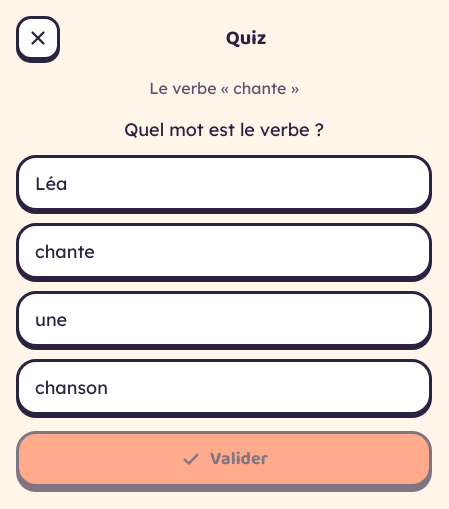
Test: GameScreen, as drawn in the mockups › no star won, no star badge
Click the button "chante" at [65, 251], box 16,223 -> 432,279
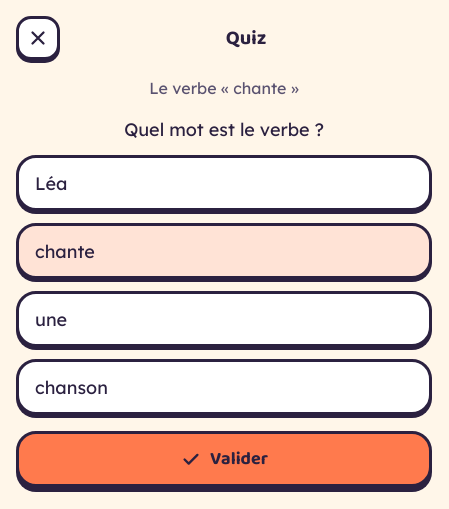
Click the button "Valider" at [224, 459], box 16,431 -> 432,487
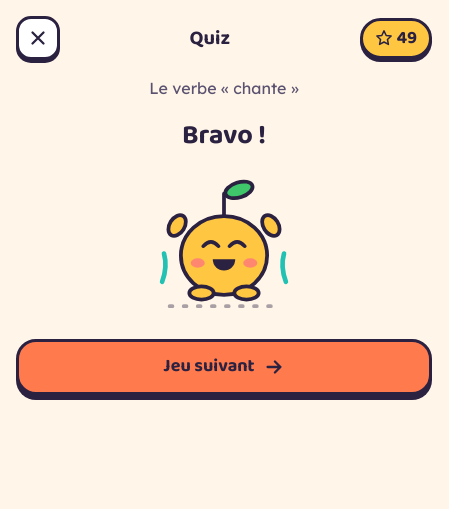
Result: the text "Bravo !" is shown at 182,116 -> 266,156
